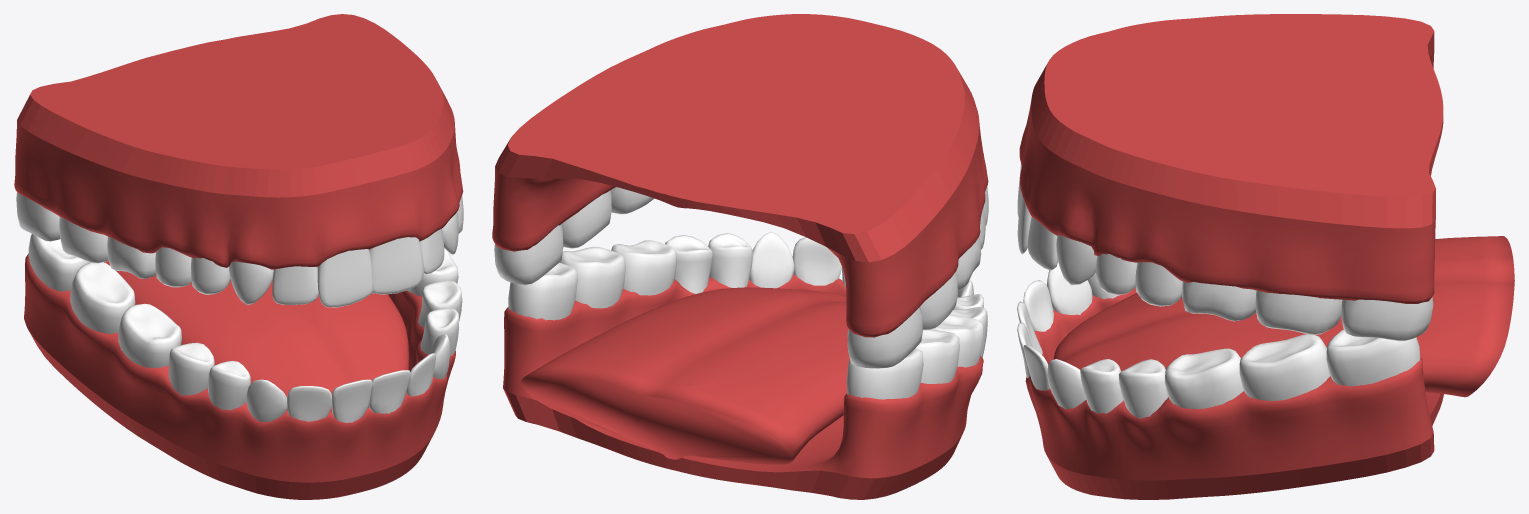
Rendered from dientes.glb.
3 views of the same model, side by side, from view 1: azimuth 30°, elevation 25°; view 2: azimuth 150°, elevation 25°; view 3: azimuth 270°, elevation 25° (orthographic). The views are drawn at different scales.
Visible parts, largest first — view 1: Object_5, Object_3, Object_6, Object_8, Object_7; view 2: Object_5, Object_8, Object_3, Object_6, Object_7; view 3: Object_5, Object_3, Object_8, Object_6, Object_7.
Boxes of the visible parts, bbox=[...] form: Object_5: bbox=[14, 14, 463, 269]; Object_3: bbox=[24, 253, 455, 499]; Object_6: bbox=[28, 234, 462, 422]; Object_8: bbox=[104, 260, 409, 412]; Object_7: bbox=[16, 192, 463, 307]; Object_5: bbox=[492, 14, 988, 337]; Object_8: bbox=[521, 287, 849, 464]; Object_3: bbox=[503, 274, 983, 499]; Object_6: bbox=[508, 231, 987, 399]; Object_7: bbox=[494, 187, 988, 368]; Object_5: bbox=[1019, 14, 1443, 303]; Object_3: bbox=[1025, 287, 1443, 499]; Object_8: bbox=[1053, 236, 1514, 397]; Object_6: bbox=[1017, 262, 1420, 418]; Object_7: bbox=[1017, 164, 1433, 341].
Size of the model in its own units: 2.17 by 1.92 by 2.3.
